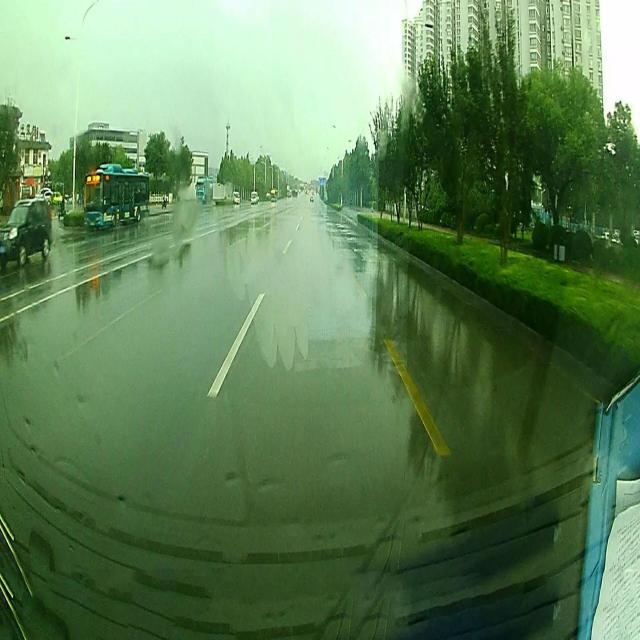car: (0, 202, 56, 268), (250, 190, 258, 202), (233, 190, 238, 206)
